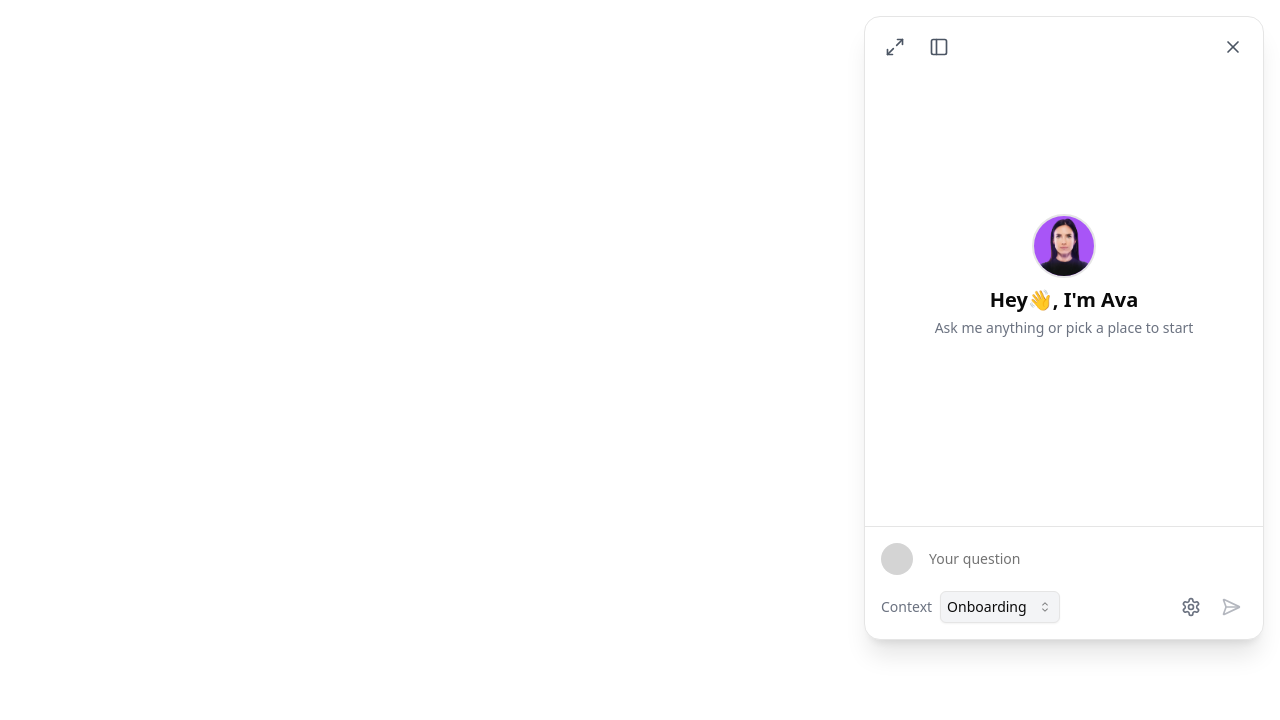
ChatWindow Component › toggles fullscreen mode when fullscreen button is clicked
# Click to enter fullscreen
Click the button with test id "button-fullscreen": (895, 47) x1=877 y1=29 x2=913 y2=65
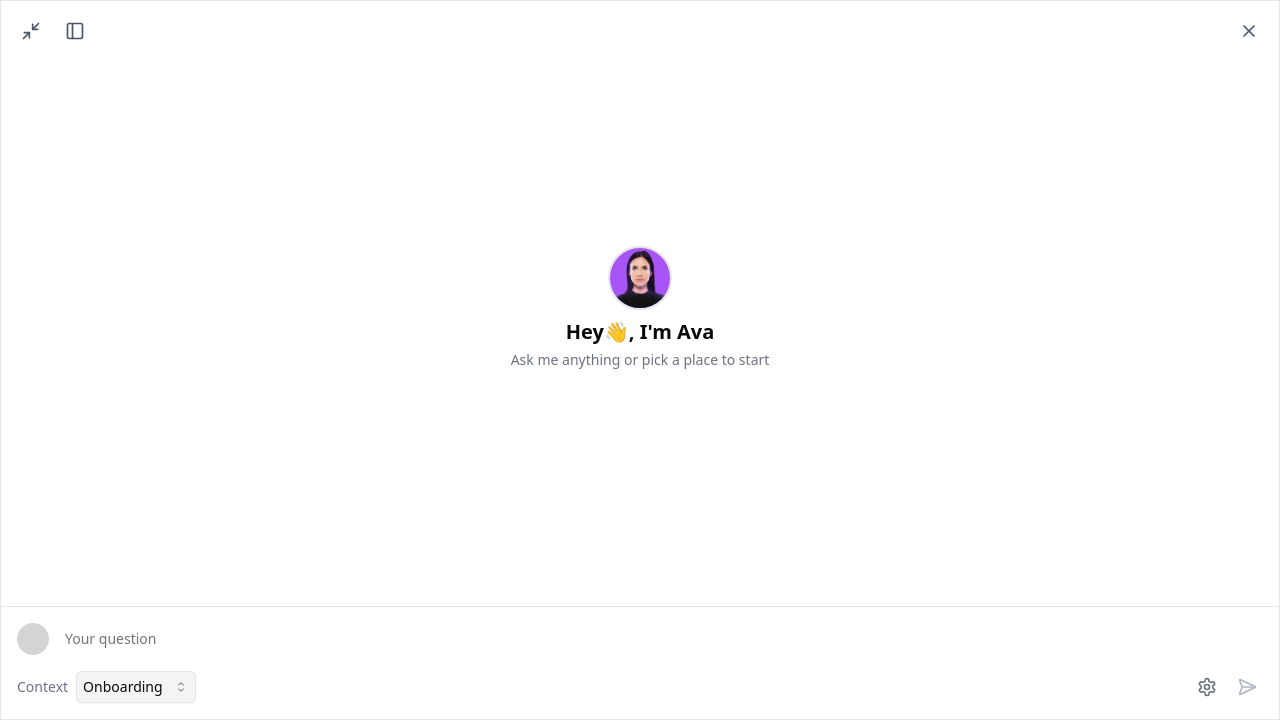
Now the icon with test id "button-minimize" is shown
# Click to exit fullscreen
Click the icon with test id "button-minimize": (31, 31) x1=21 y1=21 x2=41 y2=41
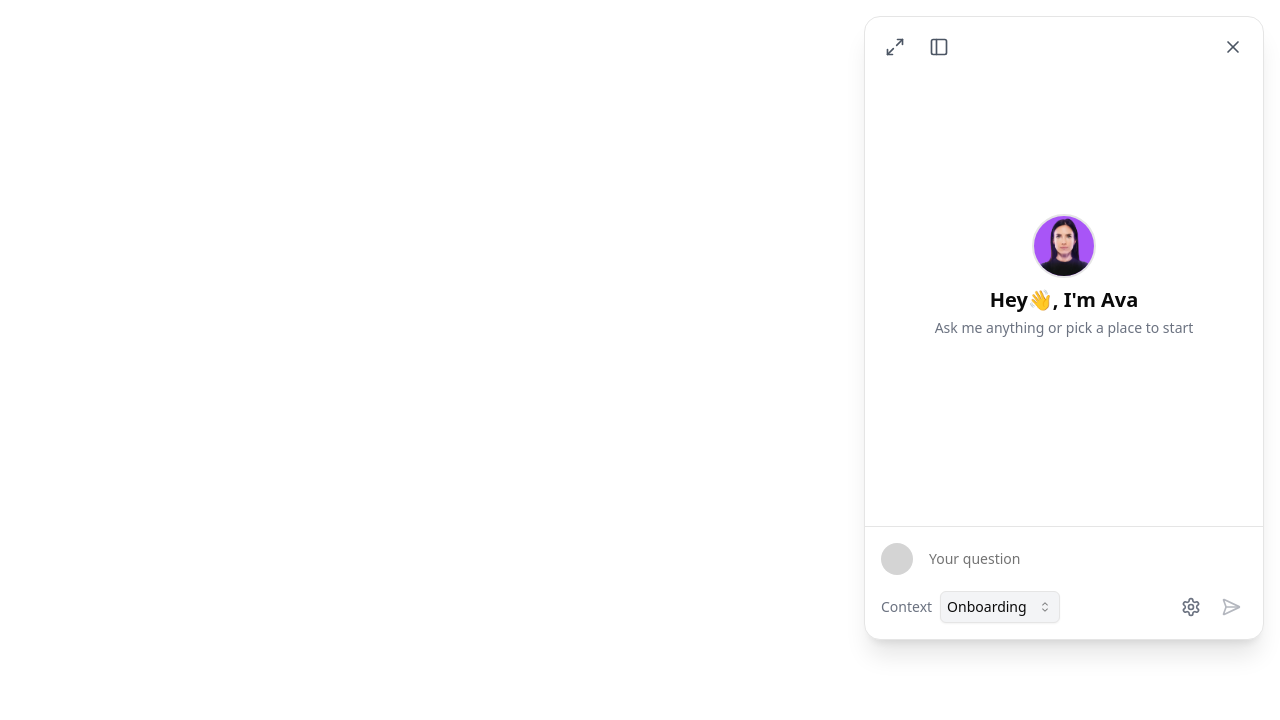
Now the icon with test id "button-maximize" is shown, box x1=885 y1=37 x2=905 y2=57
